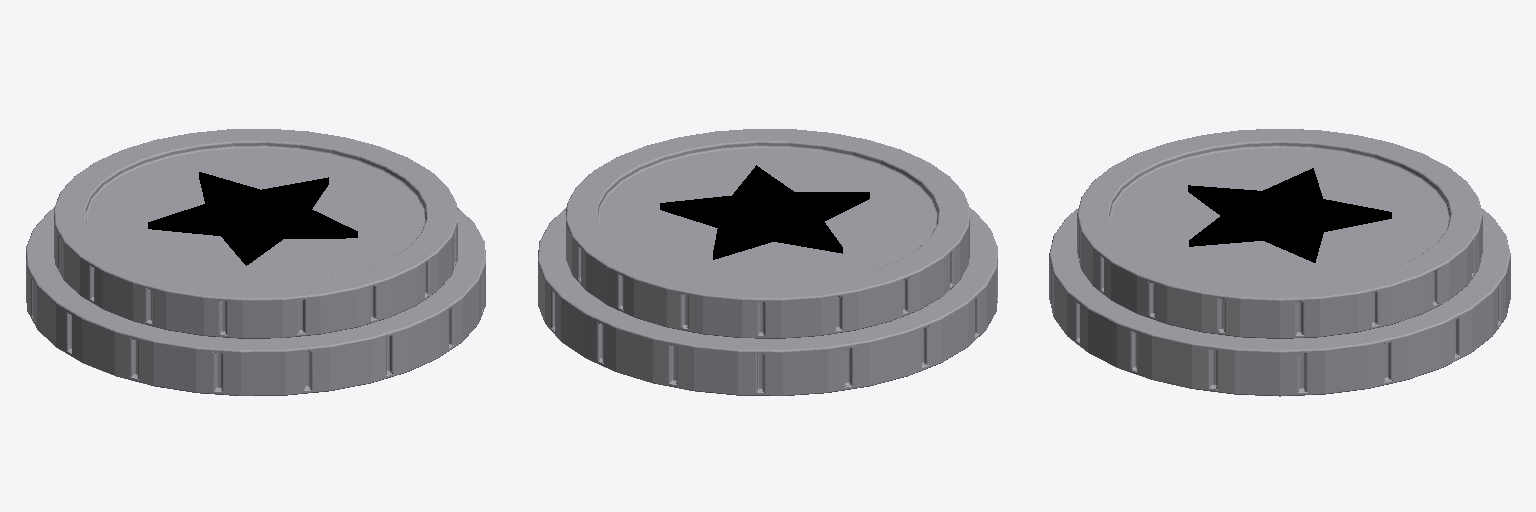
File: podiumB.obj
3 views of the same model, side by side, from view 1: azimuth 30°, elevation 25°; view 2: azimuth 150°, elevation 25°; view 3: azimuth 270°, elevation 25° (orthographic).
Visible parts, largest first — view 1: Base.003, Curve; view 2: Base.003, Curve; view 3: Base.003, Curve.
Boxes of the visible parts, x1,y1,x2,y2 form: Base.003: [26, 129, 485, 395]; Curve: [148, 172, 357, 265]; Base.003: [538, 129, 997, 395]; Curve: [660, 165, 869, 259]; Base.003: [1049, 129, 1510, 396]; Curve: [1188, 168, 1391, 262].
Size of the model in its own units: 6.37 by 1.33 by 6.37.